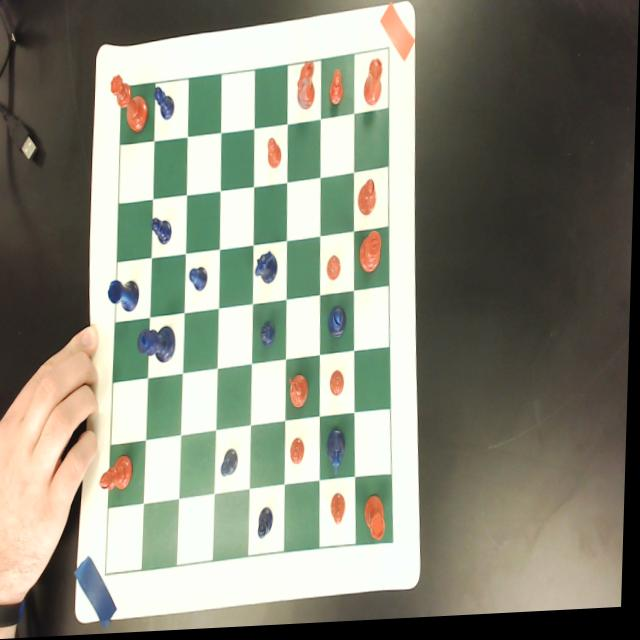B: (330, 309, 349, 343)
K: (139, 328, 178, 367)
N: (328, 430, 349, 481), (256, 255, 280, 287)
P: (153, 86, 176, 123), (151, 215, 174, 250), (190, 268, 211, 295), (261, 509, 277, 544), (223, 451, 242, 479), (262, 323, 278, 351)
R: (109, 280, 142, 316)
b: (103, 454, 136, 495), (359, 182, 379, 220)
cb: (109, 51, 396, 576)
k: (360, 234, 383, 280)
n: (296, 63, 317, 113), (290, 375, 313, 413)
p: (329, 70, 345, 111), (333, 497, 349, 530), (267, 140, 283, 171), (292, 441, 308, 467), (328, 259, 343, 284), (333, 374, 347, 399)
q: (110, 75, 150, 136)
r: (366, 498, 391, 546), (364, 60, 383, 112)
